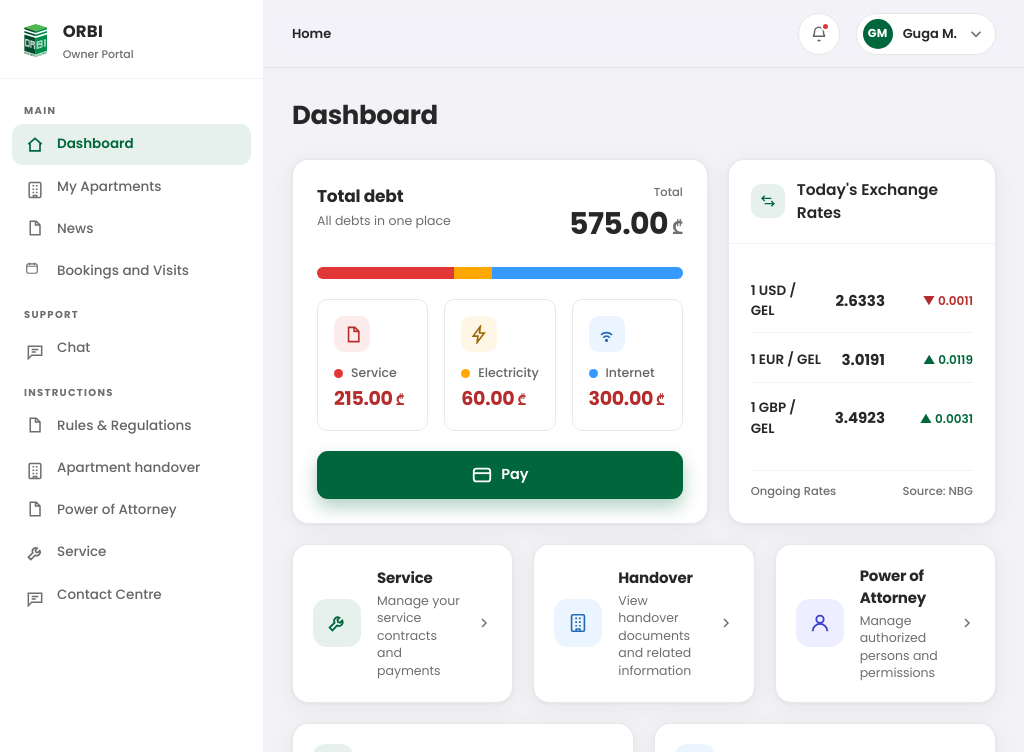
Scenario: the header bell › the panel closes on Escape
This screenshot has width=1024, height=752.
Click the button named "notification".
click(819, 34)  # box [798, 12, 840, 54]
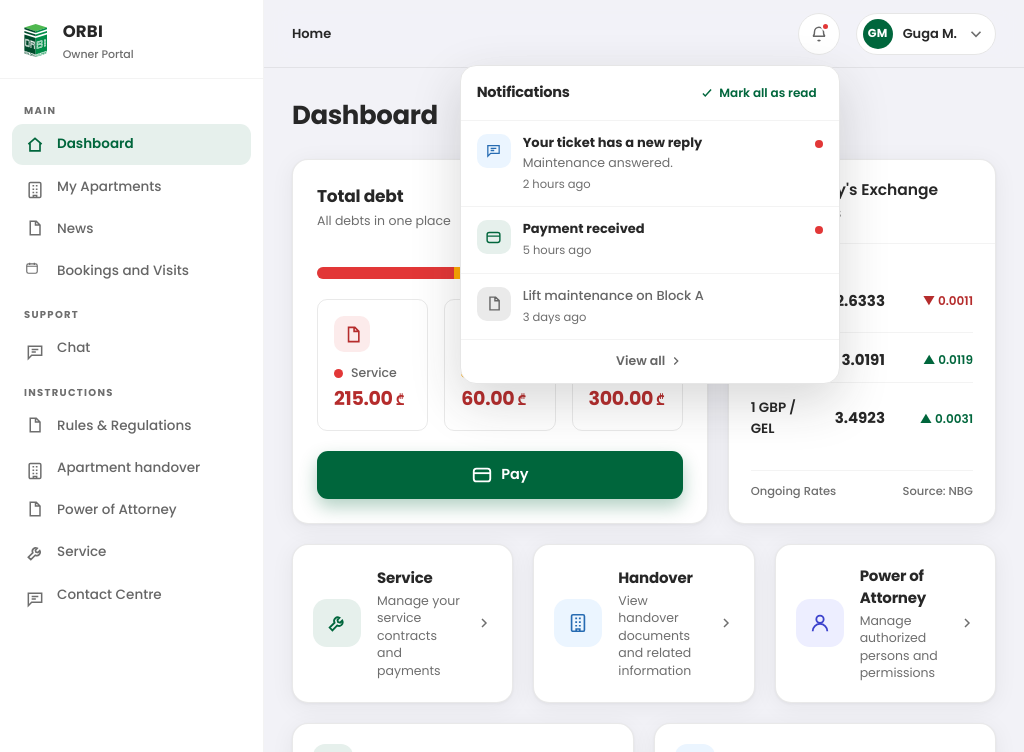
Now the text "Payment received" is shown, box [523, 219, 645, 238]
Press Escape
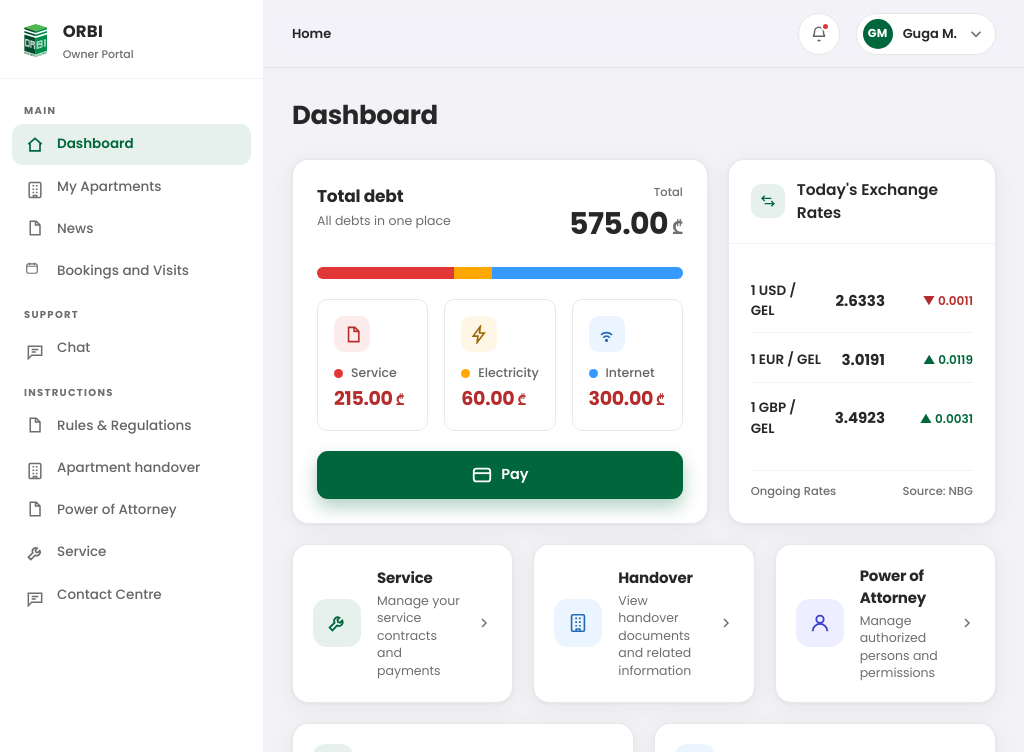
Now the link "Payment received" is gone
